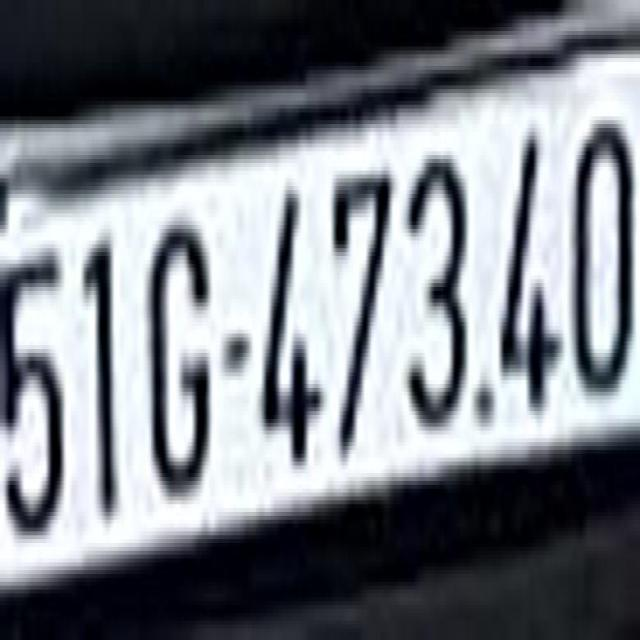0: (574, 109, 628, 411)
1: (80, 237, 116, 528)
3: (404, 159, 467, 427)
4: (262, 182, 316, 493), (500, 128, 552, 434)
5: (0, 256, 63, 535)
7: (337, 155, 389, 469)
G: (151, 221, 210, 493)
